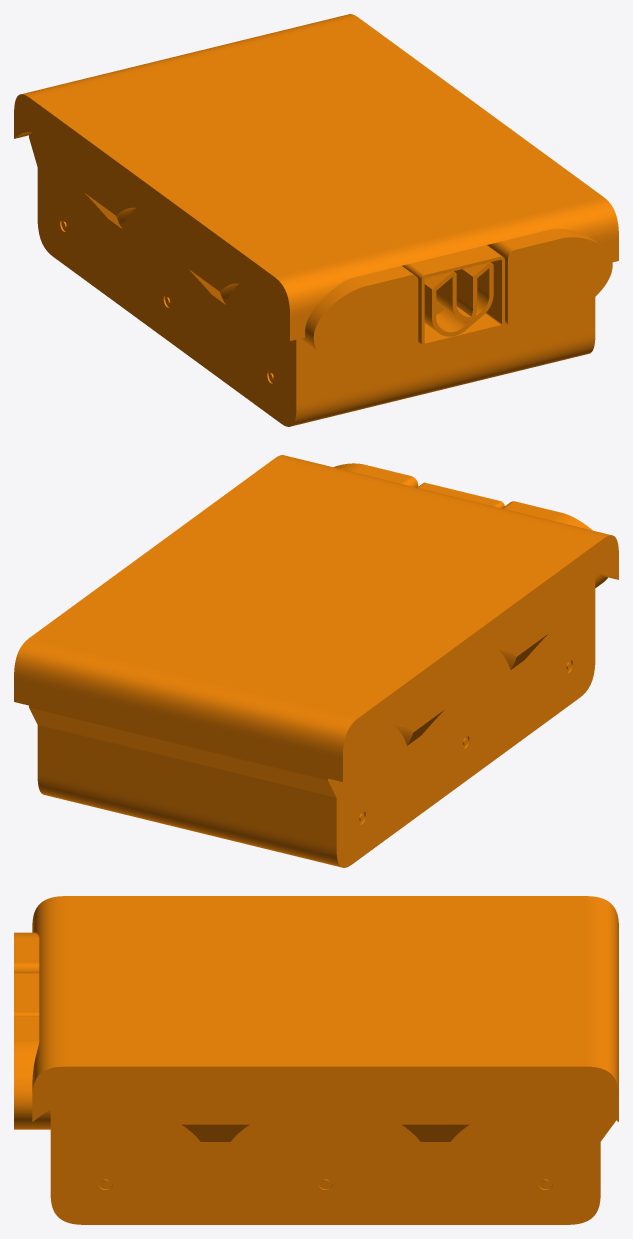
File: chassisMETREC3_MAIN.dae
3 renders of one model, top to bottom at view 1: azimuth 30°, elevation 25°; view 2: azimuth 150°, elevation 25°; view 3: azimuth 270°, elevation 25°, orthographic. The views are drawn at different scales.
Visible parts, largest first — view 1: 5bedaf3eb111e415fc7e5e93; view 2: 5bedaf3eb111e415fc7e5e93; view 3: 5bedaf3eb111e415fc7e5e93.
Boxes of the visible parts, x1=… form: 5bedaf3eb111e415fc7e5e93: x1=14, y1=14, x2=618, y2=426; 5bedaf3eb111e415fc7e5e93: x1=14, y1=455, x2=618, y2=867; 5bedaf3eb111e415fc7e5e93: x1=14, y1=896, x2=618, y2=1224.
Size of the model in its own units: 0.22 by 0.33 by 0.1.
